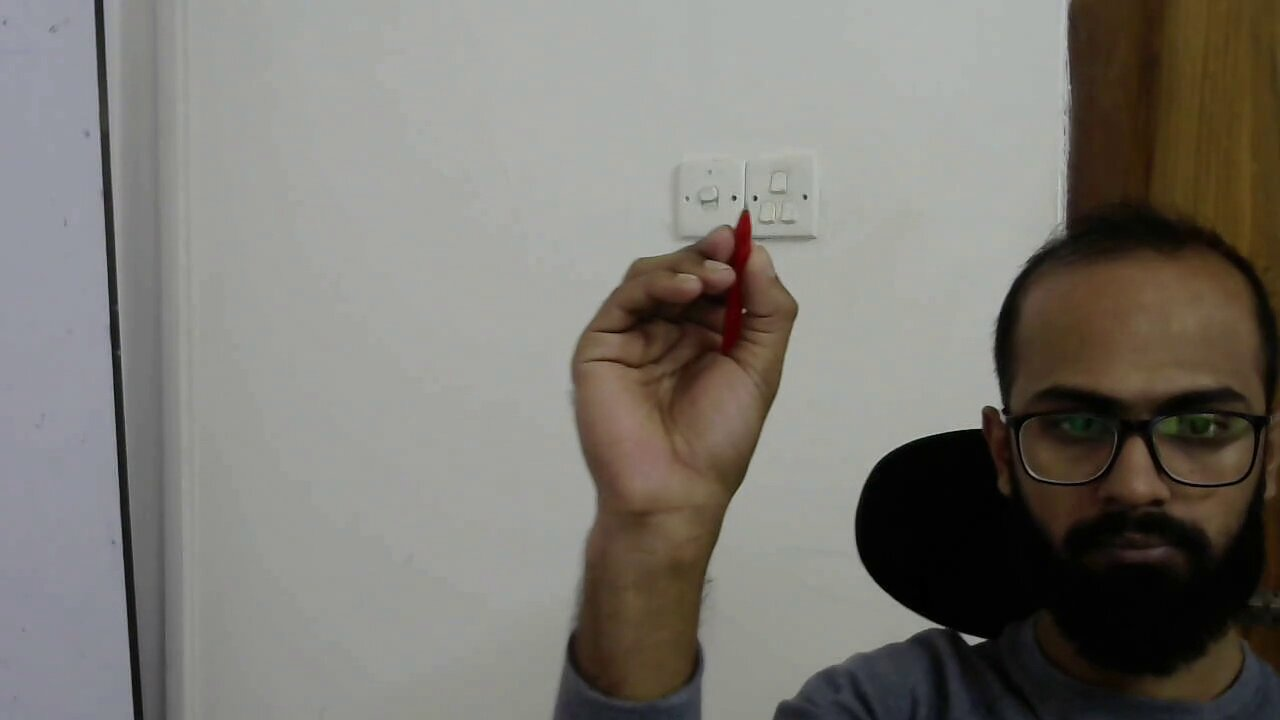pointer: (584, 226, 799, 395)
